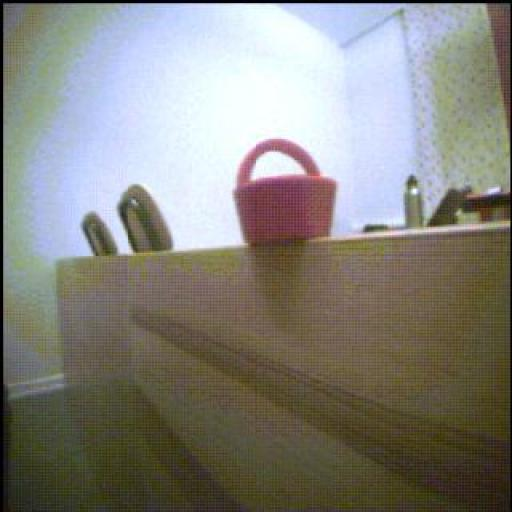Bucket: (235, 140, 337, 246)
